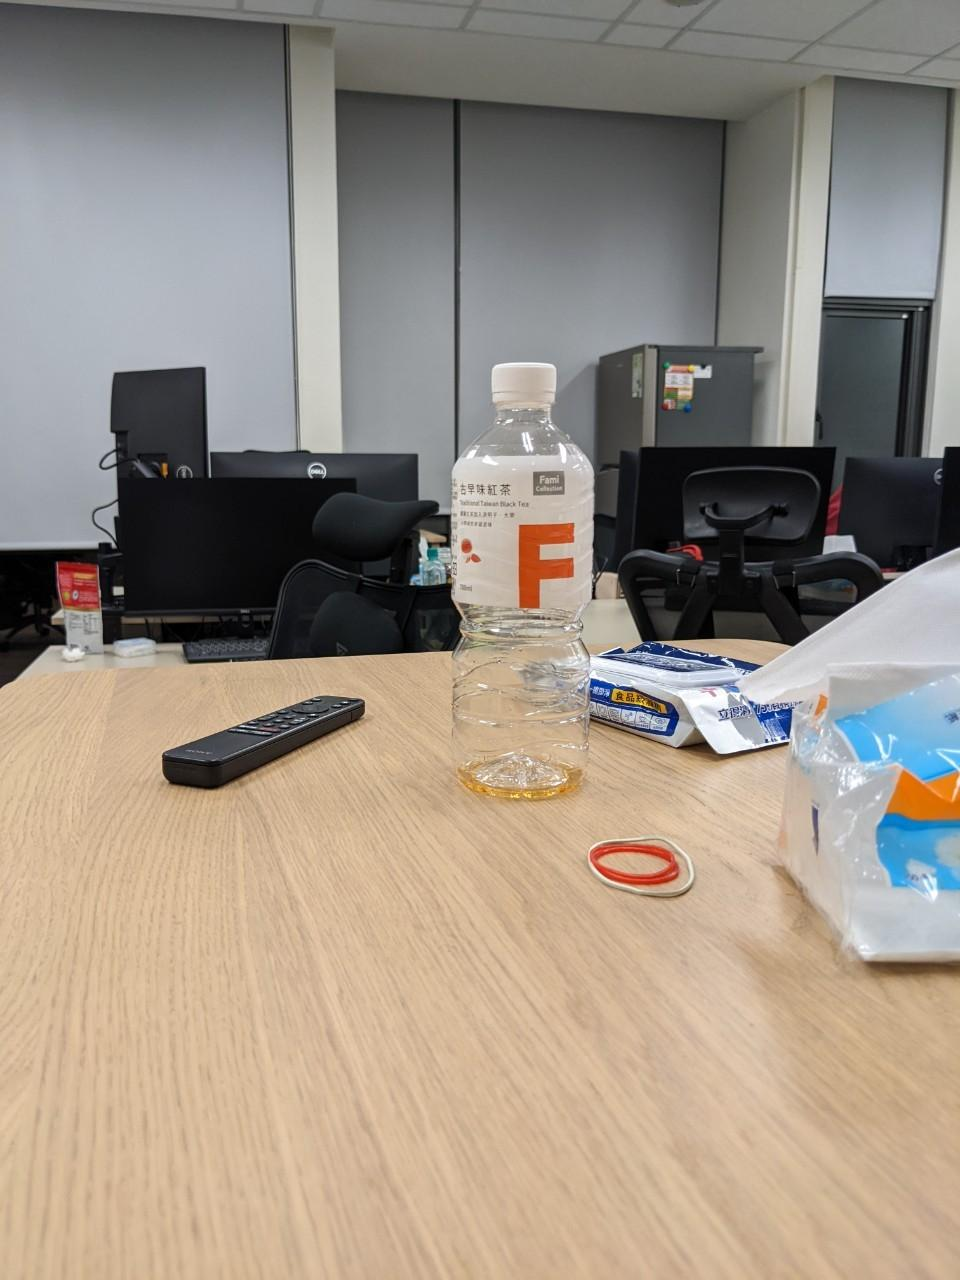BIODEGRADABLE: (442, 332, 602, 811)
